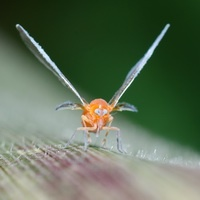insect: (16, 24, 169, 150)
